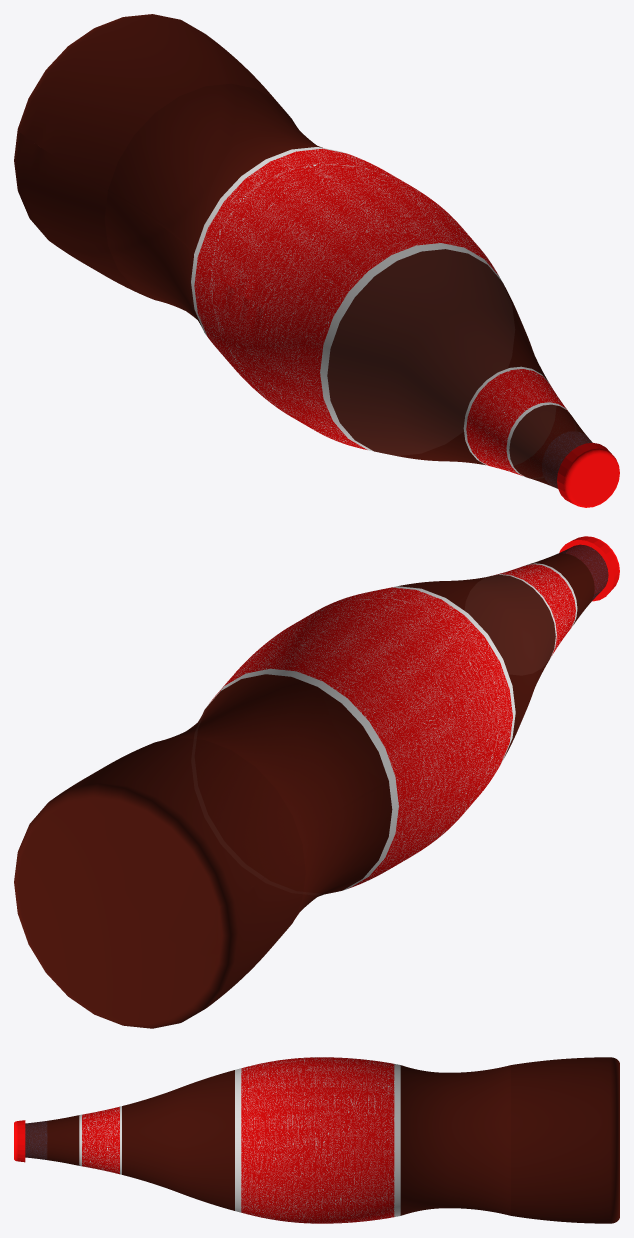
Rendered from model_scale.obj.
The picture shows the model from 3 angles, top to bottom: view 1: azimuth 30°, elevation 25°; view 2: azimuth 150°, elevation 25°; view 3: azimuth 270°, elevation 25°; orthographic projection. The views are drawn at different scales.
Visible parts, largest first — view 1: mesh13_mesh13-geometry, mesh1_mesh1-geometry; view 2: mesh13_mesh13-geometry, mesh1_mesh1-geometry; view 3: mesh13_mesh13-geometry, mesh1_mesh1-geometry.
Boxes of the visible parts, left/top/right/bottom form: mesh13_mesh13-geometry: left=14, top=14, right=592, bottom=488; mesh1_mesh1-geometry: left=557, top=442, right=619, bottom=507; mesh13_mesh13-geometry: left=14, top=544, right=608, bottom=1028; mesh1_mesh1-geometry: left=559, top=536, right=619, bottom=601; mesh13_mesh13-geometry: left=25, top=1057, right=619, bottom=1223; mesh1_mesh1-geometry: left=14, top=1120, right=25, bottom=1162.
Size of the model in its own units: 0.0416 by 0.0428 by 0.1543.
